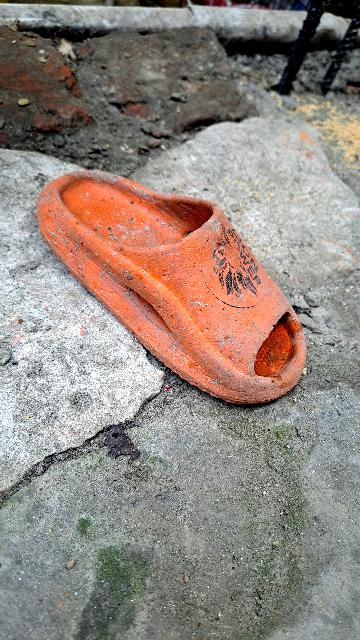sandal: (23, 127, 348, 416)
